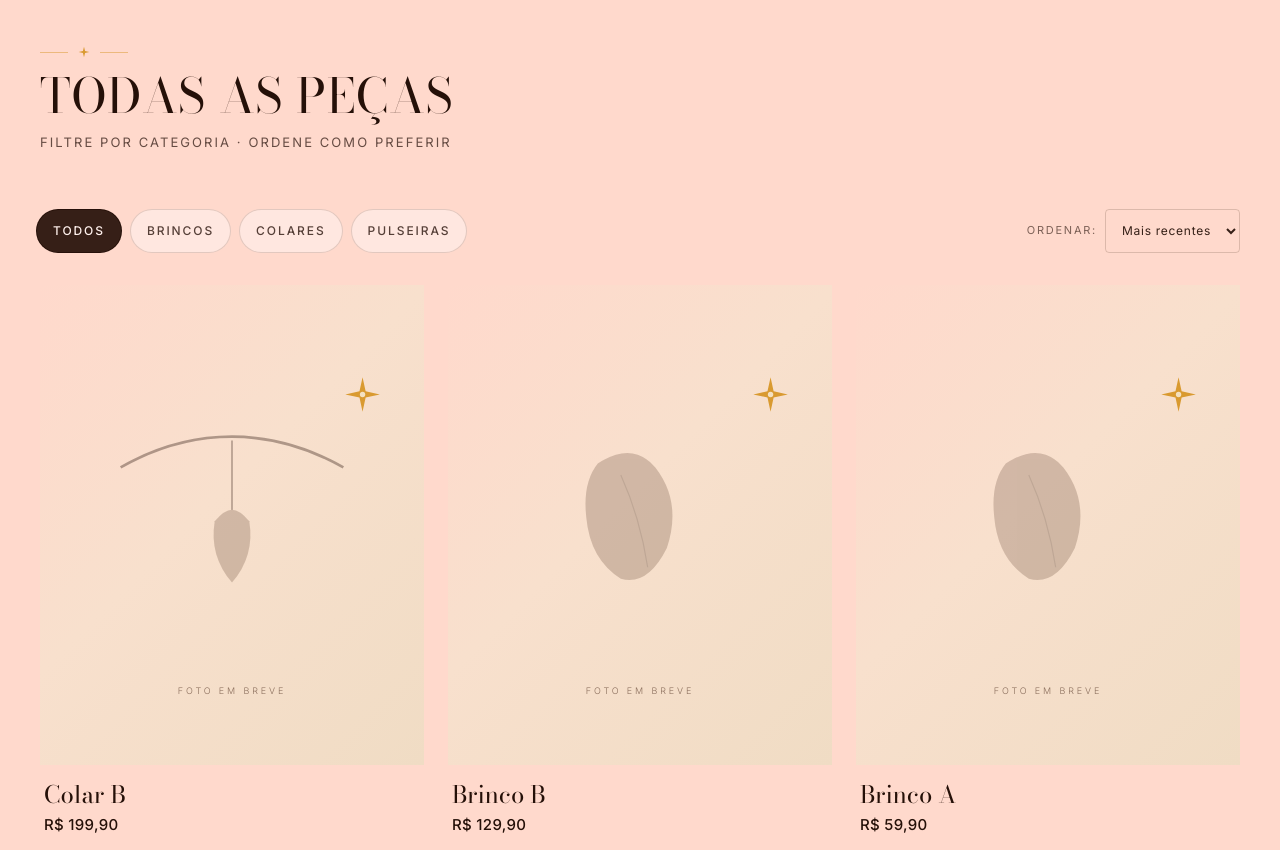
it: TodasAsPecas (filtros + sort) › filtra por categoria quando chip é clicado
Click the button "Brincos" at {"x": 180, "y": 231}, box [130,209,231,253]
(page scrolled)
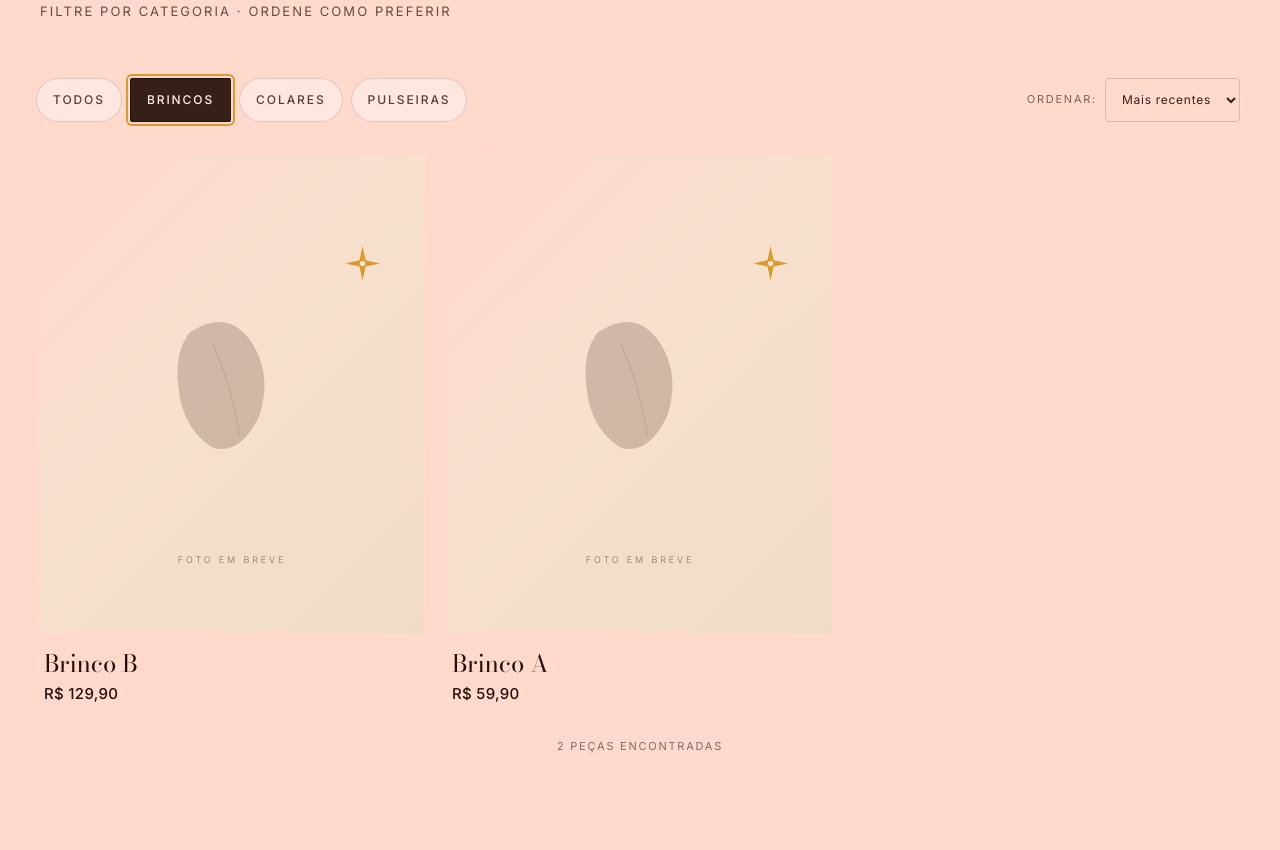
expect the number of links is 2: met, box [40,154,424,706]; [448,154,832,706]
expect the text with test id "visible-count" reads "2 peças encontradas": met, box [557,739,723,753]
